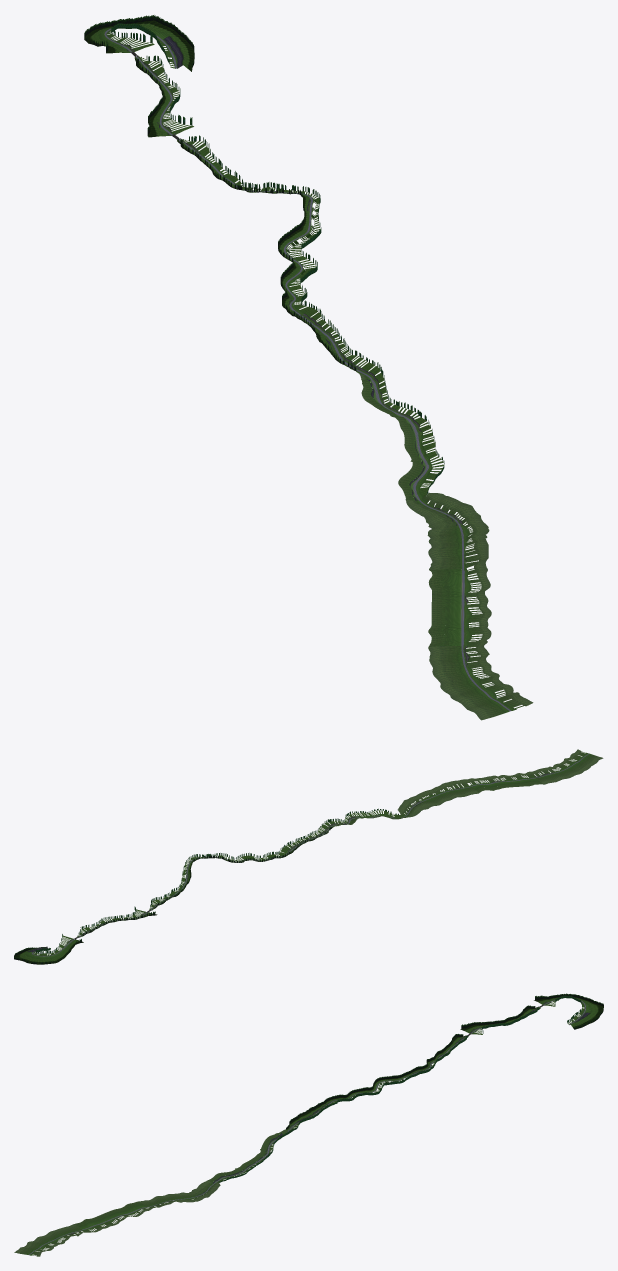
File: course-al1.glb
3 views of the same model, one above another, from view 1: azimuth 30°, elevation 25°; view 2: azimuth 150°, elevation 25°; view 3: azimuth 330°, elevation 25° (orthographic). The views are drawn at different scales.
Parts seen in each view (by area): view 1: course-al1; view 2: course-al1; view 3: course-al1.
Part boxes in pixels (box(x1,y1,x2,y2)): course-al1: box(84, 15, 533, 720); course-al1: box(14, 749, 603, 964); course-al1: box(14, 993, 603, 1256).
Size of the model in its own units: 3564 by 703 by 10685.
Materials: 55 (55 with a texture image).
